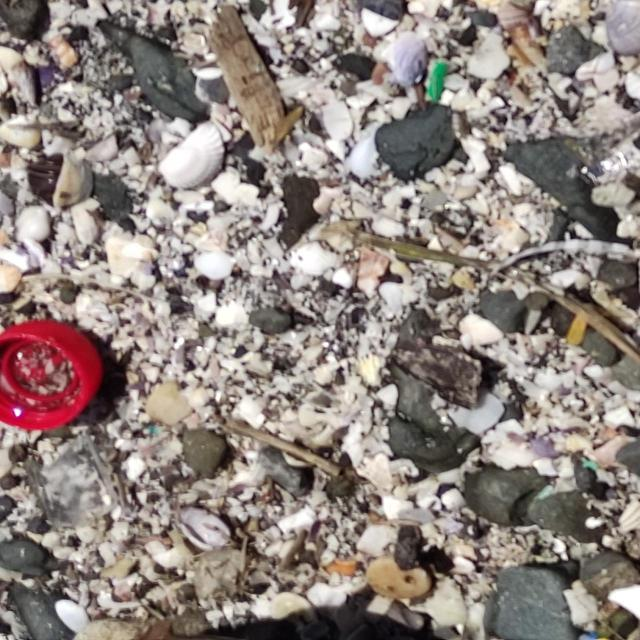plastic_waste: (1, 324, 110, 437)
